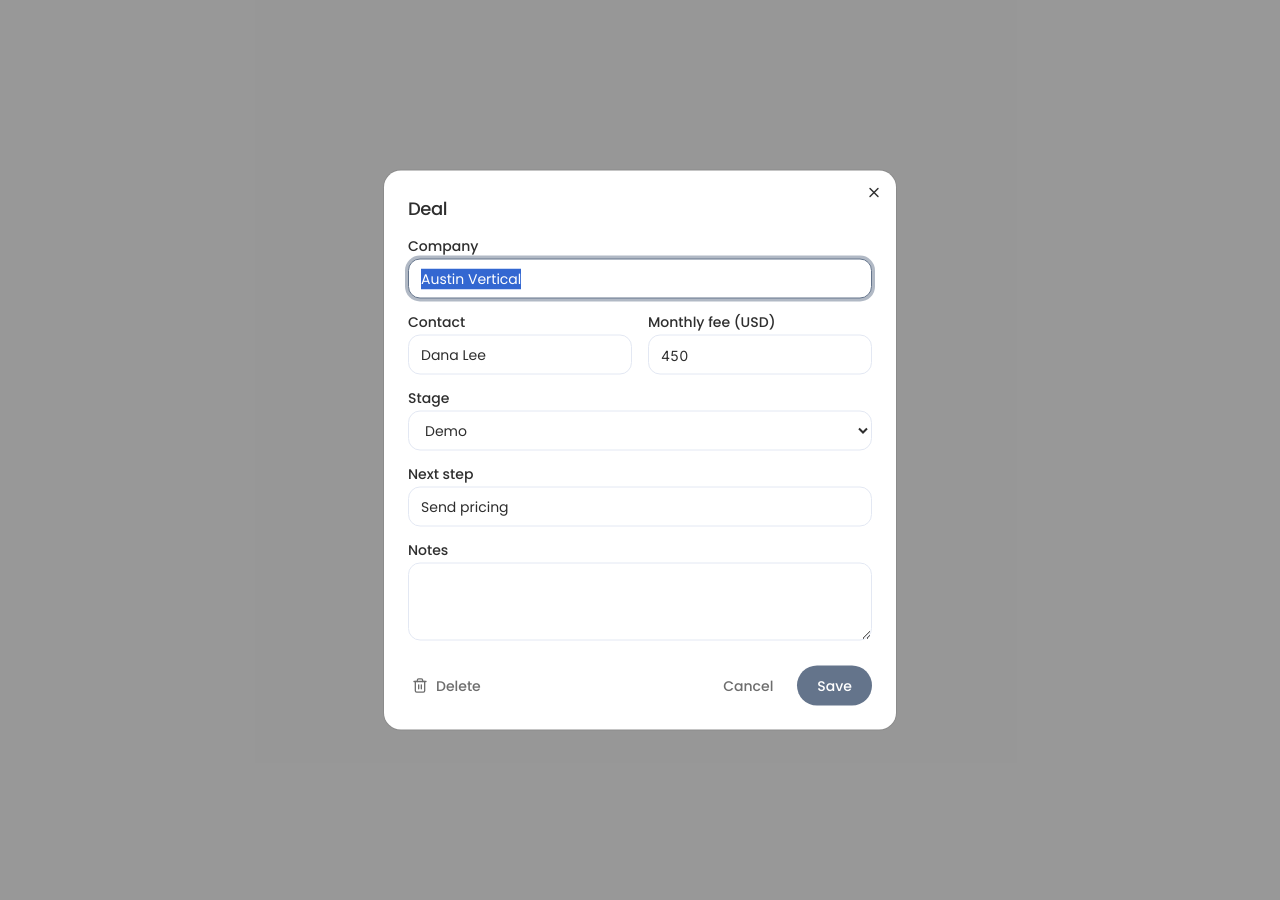
Test: CardEditor: a card made here › a blank name is refused before anything is sent
Clear the field labelled "Company". click: (640, 278)
box: [408,258,872,298]
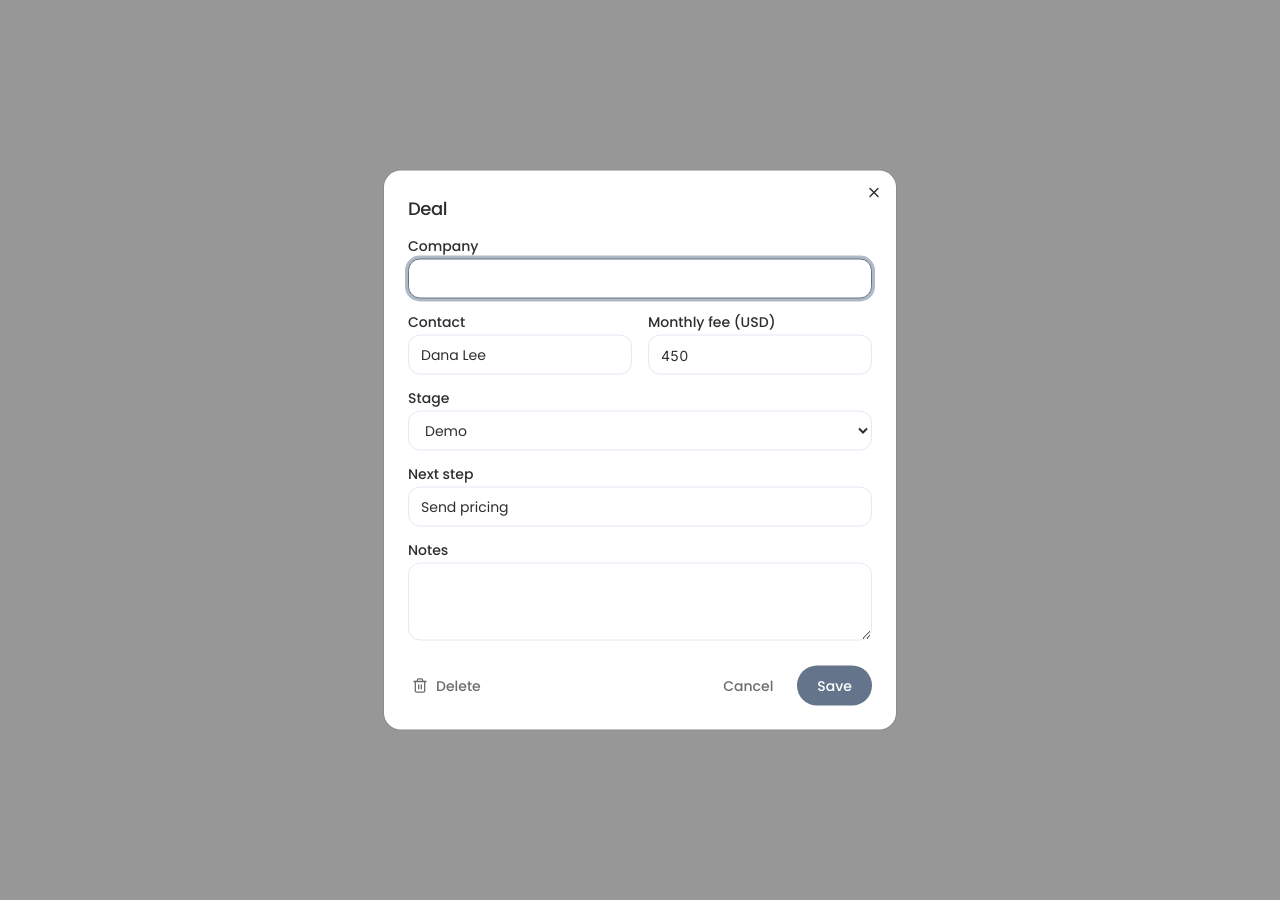
Click the button "Save". click: click(835, 686)
box: [797,666,872,706]
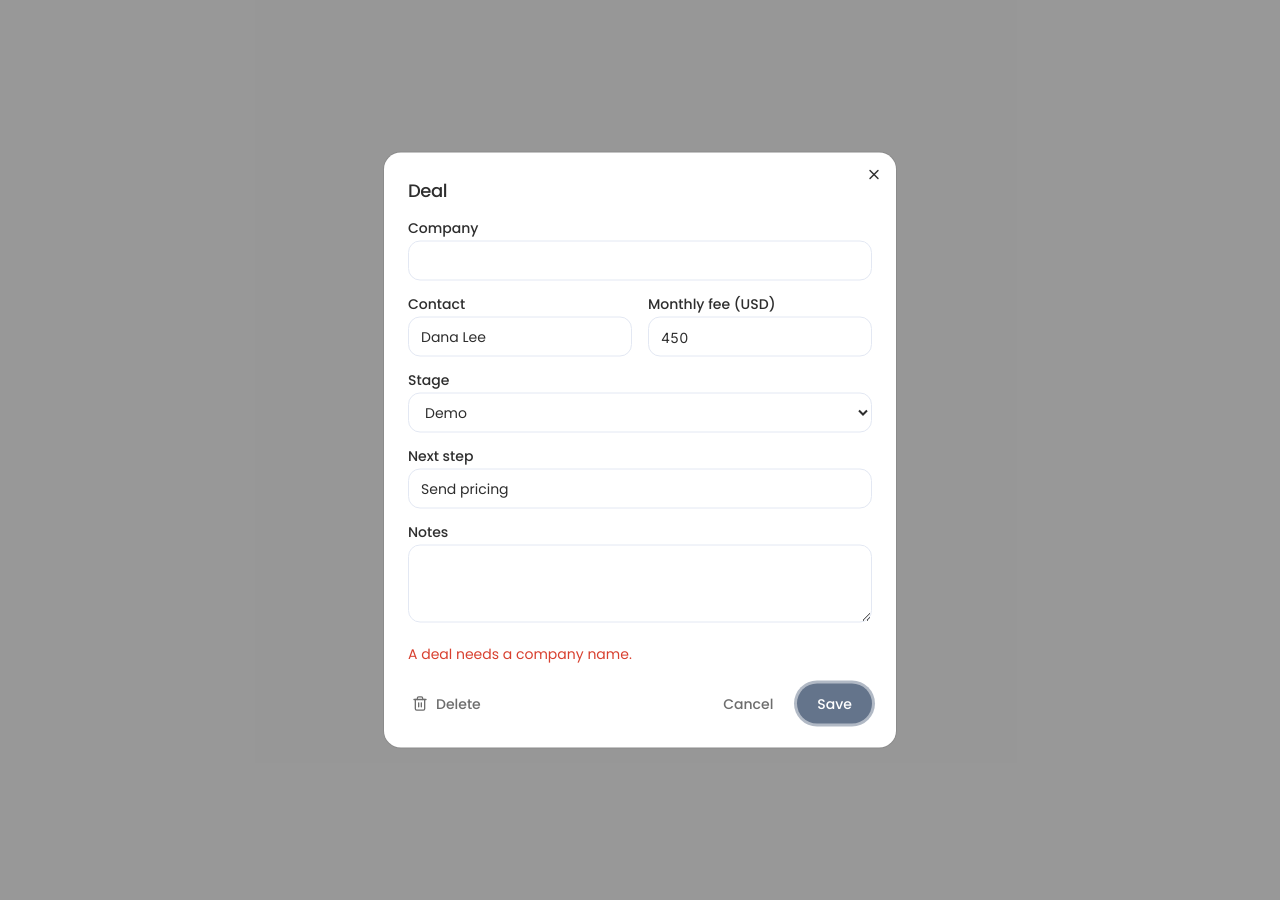
expect the message reads "A deal needs a company name.": met, box [408,644,632,664]
